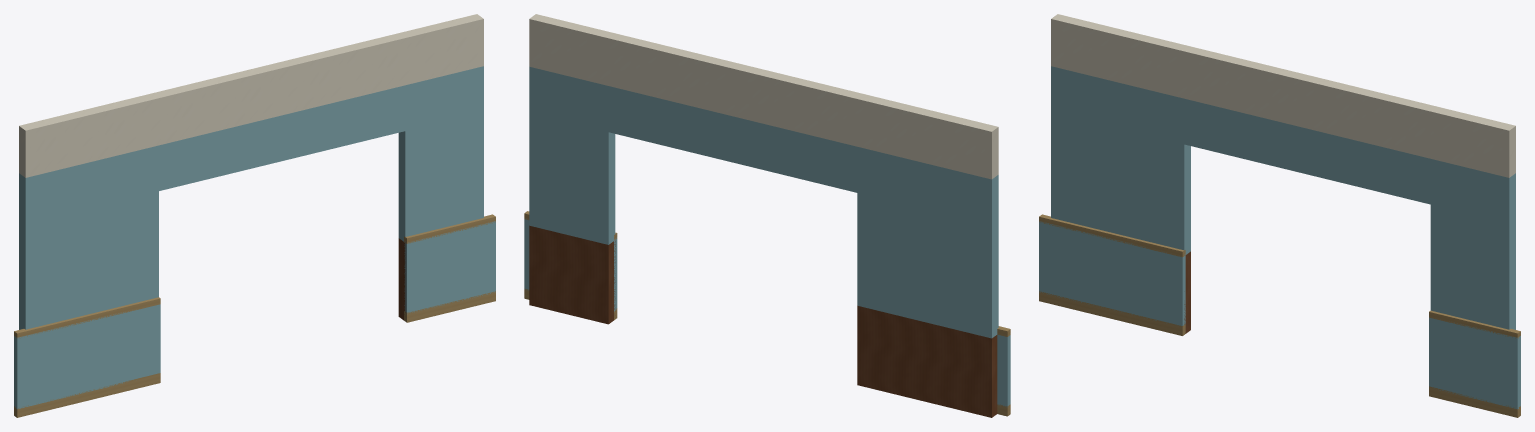
The model's file is D04_PORT_FORWARD_COMMONS_ENTRY_r001.glb.
3 views of the same model, side by side, from view 1: azimuth 30°, elevation 25°; view 2: azimuth 150°, elevation 25°; view 3: azimuth 330°, elevation 25° (orthographic).
Parts seen in each view (by area): view 1: D04CS_D04Commons_SouthGlass_Remaining_0, D04CS_D04Commons_SouthHead_RemainingHead, D04CS_D04Commons_SouthGlass_Remaining_1, D04CS_D04Commons_SouthGlass_RemainingHead, D04CS_D04PF_UpperGuard_06_Remaining_0, D04CS_D04Commons_SouthHead_Remaining_0, D04CS_D04PF_UpperGuard_06_Remaining_1, D04CS_D04Commons_SouthHead_Remaining_1, D04CS_D04PF_UpperGuard_06_Base_Remaining_0, D04CS_D04PF_UpperGuard_06_Cap_Remaining_0, D04CS_D04PF_UpperGuard_06_Base_Remaining_1, D04CS_D04PF_UpperGuard_06_Cap_Remaining_1 (+1 smaller); view 2: D04CS_D04Commons_SouthGlass_Remaining_0, D04CS_D04Commons_SouthHead_RemainingHead, D04CS_D04Commons_SouthGlass_Remaining_1, D04CS_D04Commons_SouthGlass_RemainingHead, D04CS_D04Commons_SouthDado_Remaining_0, D04CS_D04Commons_SouthHead_Remaining_0, D04CS_D04Commons_SouthDado_Remaining_1, D04CS_D04Commons_SouthHead_Remaining_1, D04CS_D04PF_UpperGuard_06_Remaining_0, D04CS_D04PF_UpperGuard_06_Remaining_1; view 3: D04CS_D04Commons_SouthGlass_Remaining_0, D04CS_D04Commons_SouthHead_RemainingHead, D04CS_D04Commons_SouthGlass_Remaining_1, D04CS_D04Commons_SouthGlass_RemainingHead, D04CS_D04PF_UpperGuard_06_Remaining_0, D04CS_D04Commons_SouthHead_Remaining_0, D04CS_D04PF_UpperGuard_06_Remaining_1, D04CS_D04Commons_SouthHead_Remaining_1, D04CS_D04PF_UpperGuard_06_Base_Remaining_0, D04CS_D04PF_UpperGuard_06_Cap_Remaining_0, D04CS_D04PF_UpperGuard_06_Base_Remaining_1, D04CS_D04PF_UpperGuard_06_Cap_Remaining_1 (+1 smaller).
Part boxes in pixels (x1,y1,x2,y2): D04CS_D04Commons_SouthGlass_Remaining_0: (19, 145, 158, 329); D04CS_D04Commons_SouthHead_RemainingHead: (152, 33, 405, 145); D04CS_D04Commons_SouthGlass_Remaining_1: (398, 66, 483, 241); D04CS_D04Commons_SouthGlass_RemainingHead: (159, 85, 405, 190); D04CS_D04PF_UpperGuard_06_Remaining_0: (14, 304, 160, 409); D04CS_D04Commons_SouthHead_Remaining_0: (19, 93, 158, 177); D04CS_D04PF_UpperGuard_06_Remaining_1: (404, 221, 495, 314); D04CS_D04Commons_SouthHead_Remaining_1: (399, 14, 483, 85); D04CS_D04PF_UpperGuard_06_Base_Remaining_0: (14, 373, 160, 417); D04CS_D04PF_UpperGuard_06_Cap_Remaining_0: (14, 297, 160, 338); D04CS_D04PF_UpperGuard_06_Base_Remaining_1: (404, 291, 495, 322); D04CS_D04PF_UpperGuard_06_Cap_Remaining_1: (404, 214, 495, 243); D04CS_D04Commons_SouthGlass_Remaining_0: (857, 147, 998, 338); D04CS_D04Commons_SouthHead_RemainingHead: (608, 33, 863, 146); D04CS_D04Commons_SouthGlass_Remaining_1: (529, 66, 615, 244); D04CS_D04Commons_SouthGlass_RemainingHead: (608, 86, 857, 192); D04CS_D04Commons_SouthDado_Remaining_0: (857, 305, 997, 417); D04CS_D04Commons_SouthHead_Remaining_0: (857, 94, 998, 179); D04CS_D04Commons_SouthDado_Remaining_1: (529, 225, 615, 324); D04CS_D04Commons_SouthHead_Remaining_1: (529, 14, 614, 85); D04CS_D04PF_UpperGuard_06_Remaining_0: (997, 334, 1010, 407); D04CS_D04PF_UpperGuard_06_Remaining_1: (524, 218, 617, 311); D04CS_D04Commons_SouthGlass_Remaining_0: (1051, 66, 1190, 254); D04CS_D04Commons_SouthHead_RemainingHead: (1184, 46, 1436, 158); D04CS_D04Commons_SouthGlass_Remaining_1: (1430, 159, 1515, 329); D04CS_D04Commons_SouthGlass_RemainingHead: (1184, 98, 1430, 204); D04CS_D04PF_UpperGuard_06_Remaining_0: (1039, 221, 1185, 325); D04CS_D04Commons_SouthHead_Remaining_0: (1051, 14, 1190, 98); D04CS_D04PF_UpperGuard_06_Remaining_1: (1429, 317, 1520, 409); D04CS_D04Commons_SouthHead_Remaining_1: (1430, 106, 1515, 177); D04CS_D04PF_UpperGuard_06_Base_Remaining_0: (1039, 291, 1185, 335); D04CS_D04PF_UpperGuard_06_Cap_Remaining_0: (1039, 214, 1185, 257); D04CS_D04PF_UpperGuard_06_Base_Remaining_1: (1429, 386, 1520, 417); D04CS_D04PF_UpperGuard_06_Cap_Remaining_1: (1429, 310, 1520, 338).
Bounding box in the file's own units: 7 × 3.96 × 0.215.
Materials: 4 (3 with a texture image).
